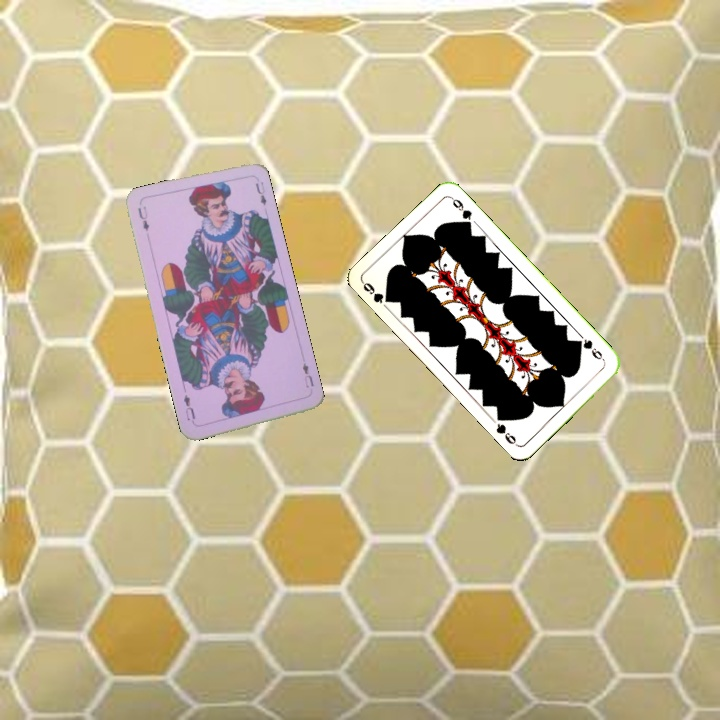EU: (298, 359, 316, 391), (134, 202, 152, 233)
G9: (573, 335, 608, 365), (358, 278, 395, 306)
